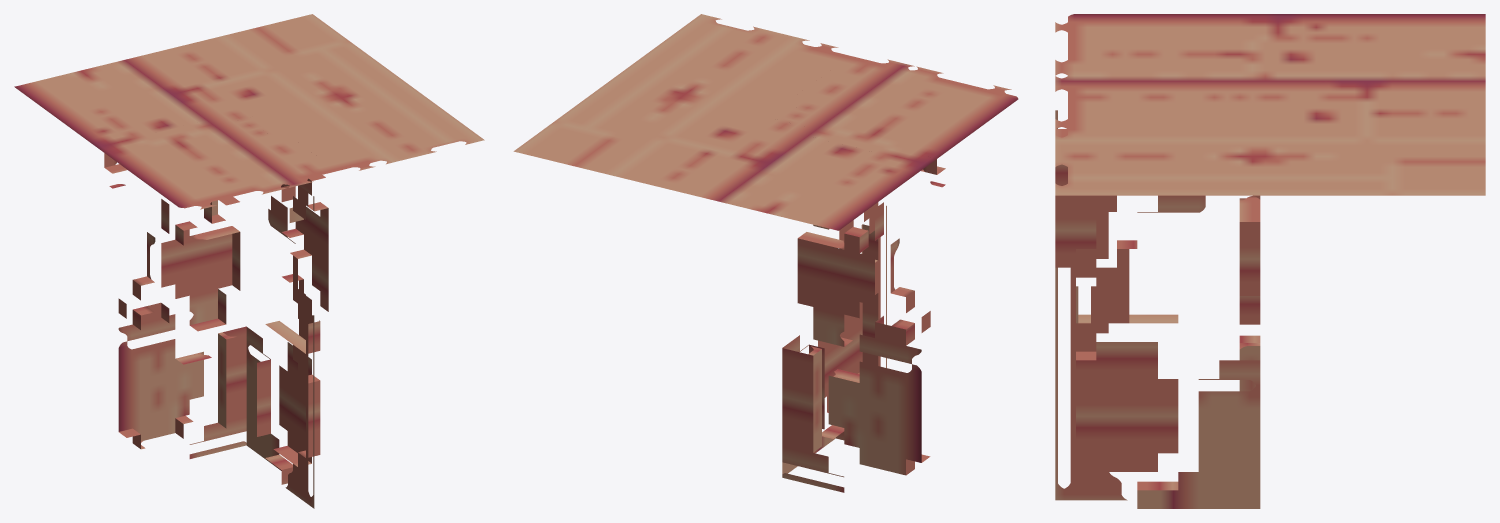
File: Cliff_Corner.obj
The picture shows the model from 3 angles, left to right: view 1: azimuth 30°, elevation 25°; view 2: azimuth 150°, elevation 25°; view 3: azimuth 270°, elevation 25°; orthographic projection. The views are drawn at different scales.
Parts seen in each view (by area): view 1: Cube.1183; view 2: Cube.1183; view 3: Cube.1183.
Boxes of the visible parts, bbox=[...] form: Cube.1183: bbox=[14, 14, 484, 508]; Cube.1183: bbox=[513, 14, 1018, 492]; Cube.1183: bbox=[1055, 14, 1485, 508].
Bounding box in the file's own units: 2.1 × 2.2 × 2.1.
